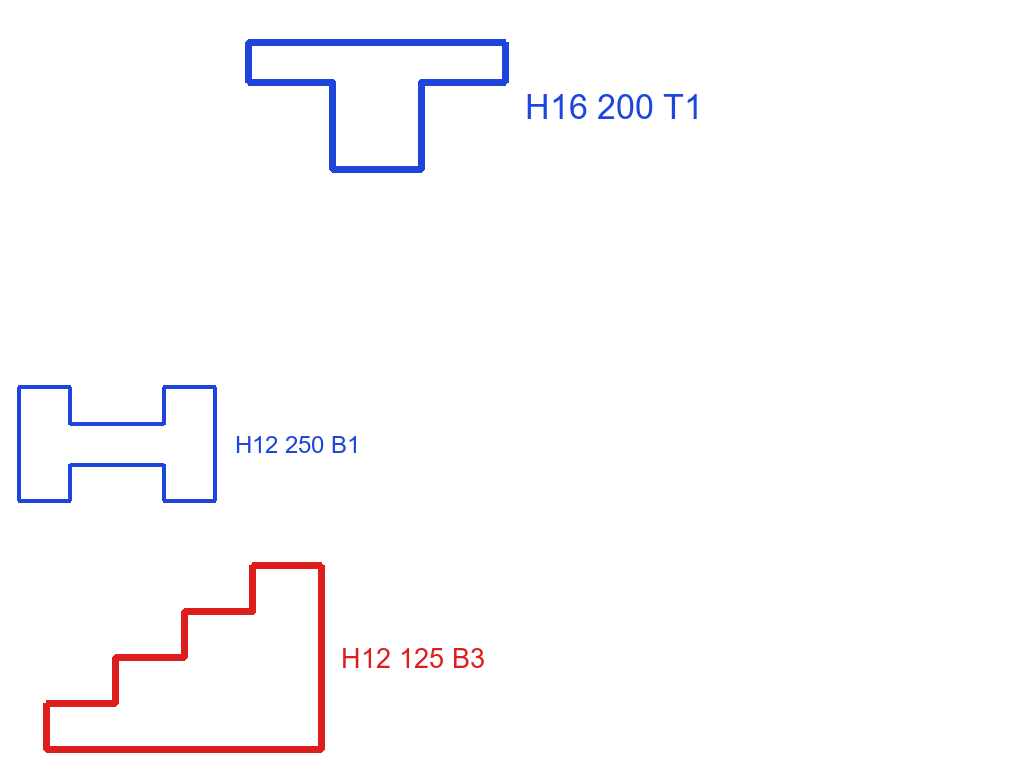shape: (41, 560, 327, 755), (243, 37, 511, 175), (15, 384, 219, 505)
text: (523, 92, 705, 121), (339, 646, 487, 670), (233, 434, 362, 455)
